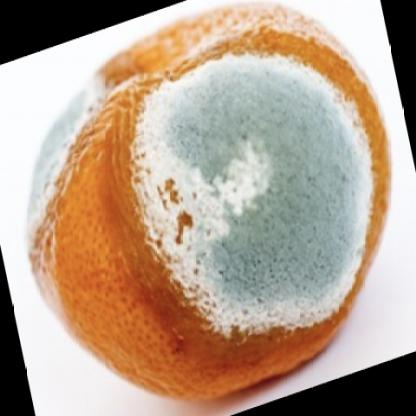rotten_orange: (20, 12, 400, 408)
